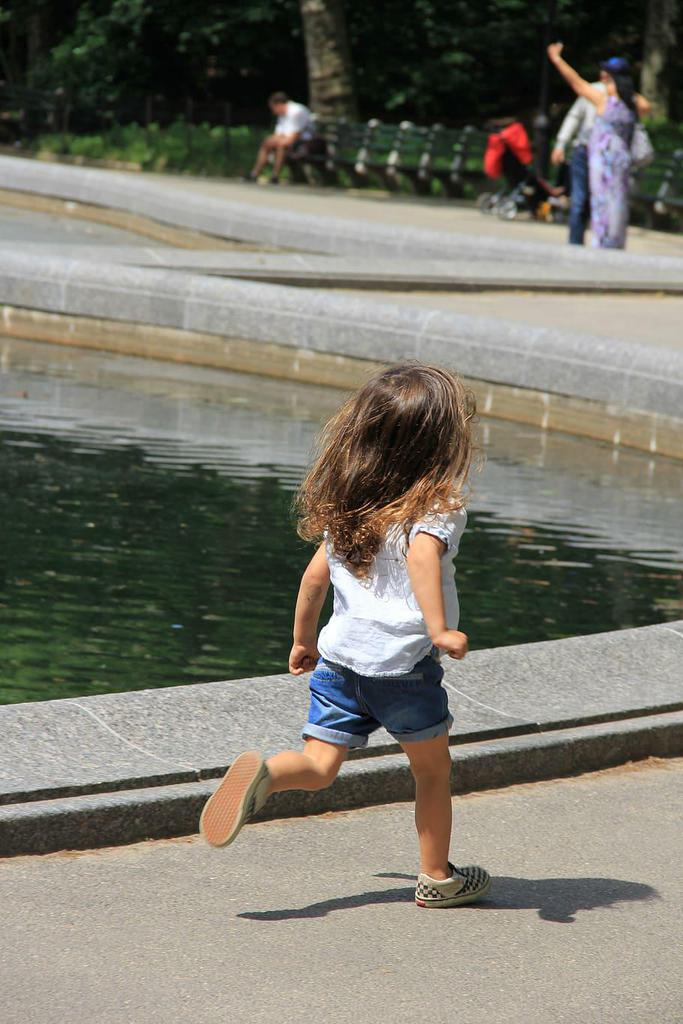child: (187, 347, 536, 918)
